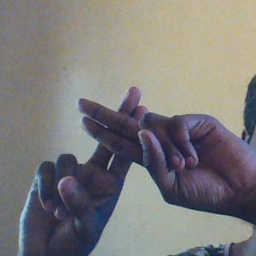F: (66, 77, 185, 201)
